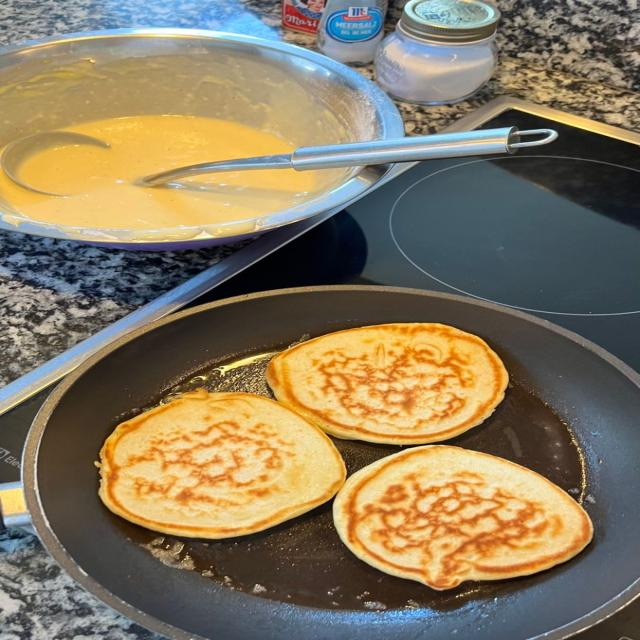pancake: (334, 445, 592, 589), (100, 390, 346, 538), (267, 324, 508, 444)
